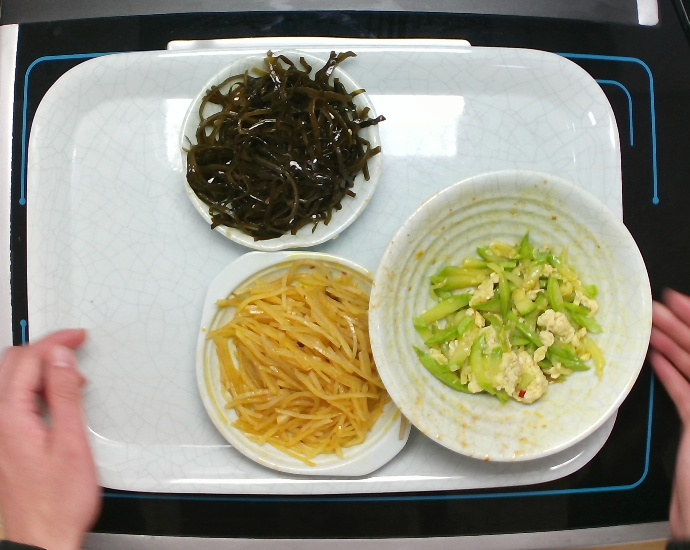JYsf-Ao_Yuan_Wan: (178, 49, 382, 254)
JYsf-Shuang_Er_Pan: (196, 247, 417, 477)
JYsf-Xiao_Tang_Wan: (369, 164, 651, 468)
